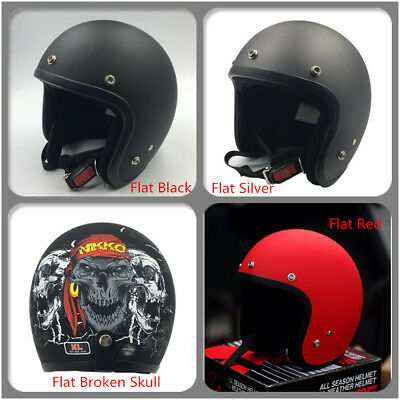with_helmet: (37, 19, 178, 180), (232, 20, 372, 182), (234, 224, 363, 364)
